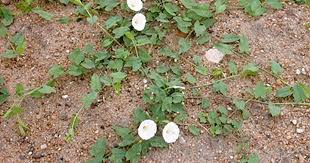bindweed: (137, 118, 158, 142), (161, 119, 179, 144), (130, 12, 147, 31), (124, 1, 144, 12)
